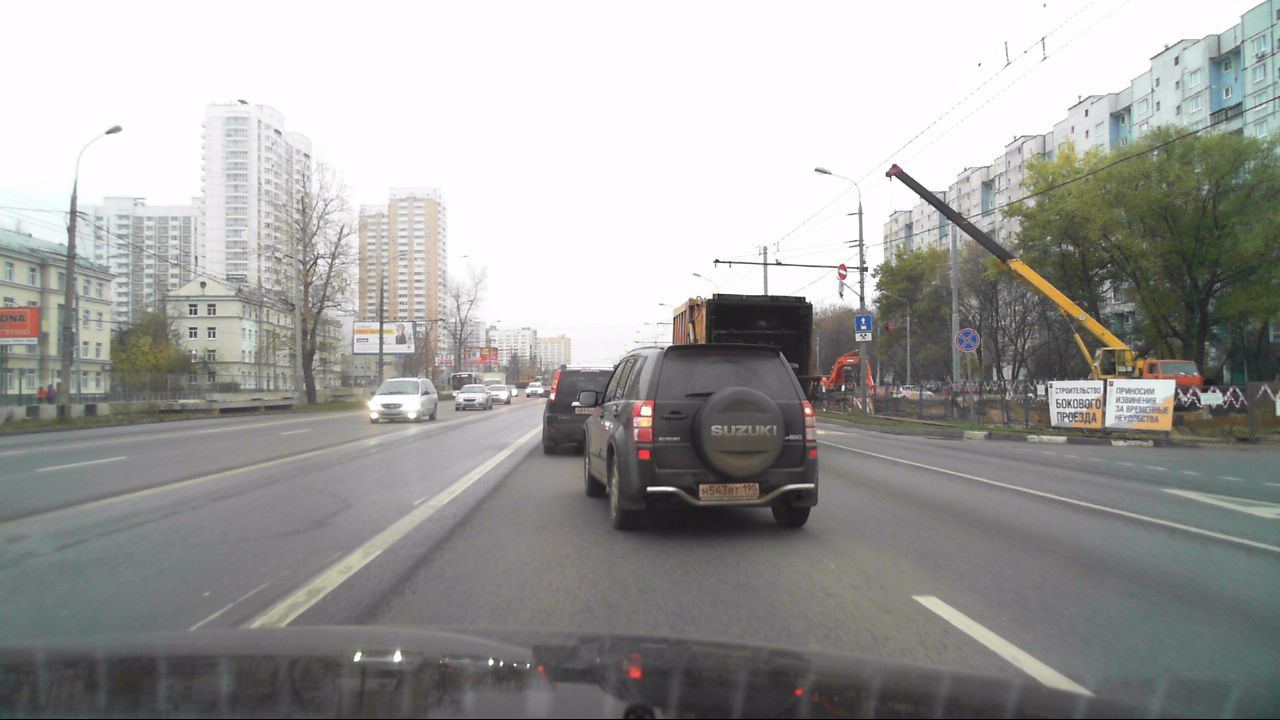No Parking: (955, 328, 980, 352)
